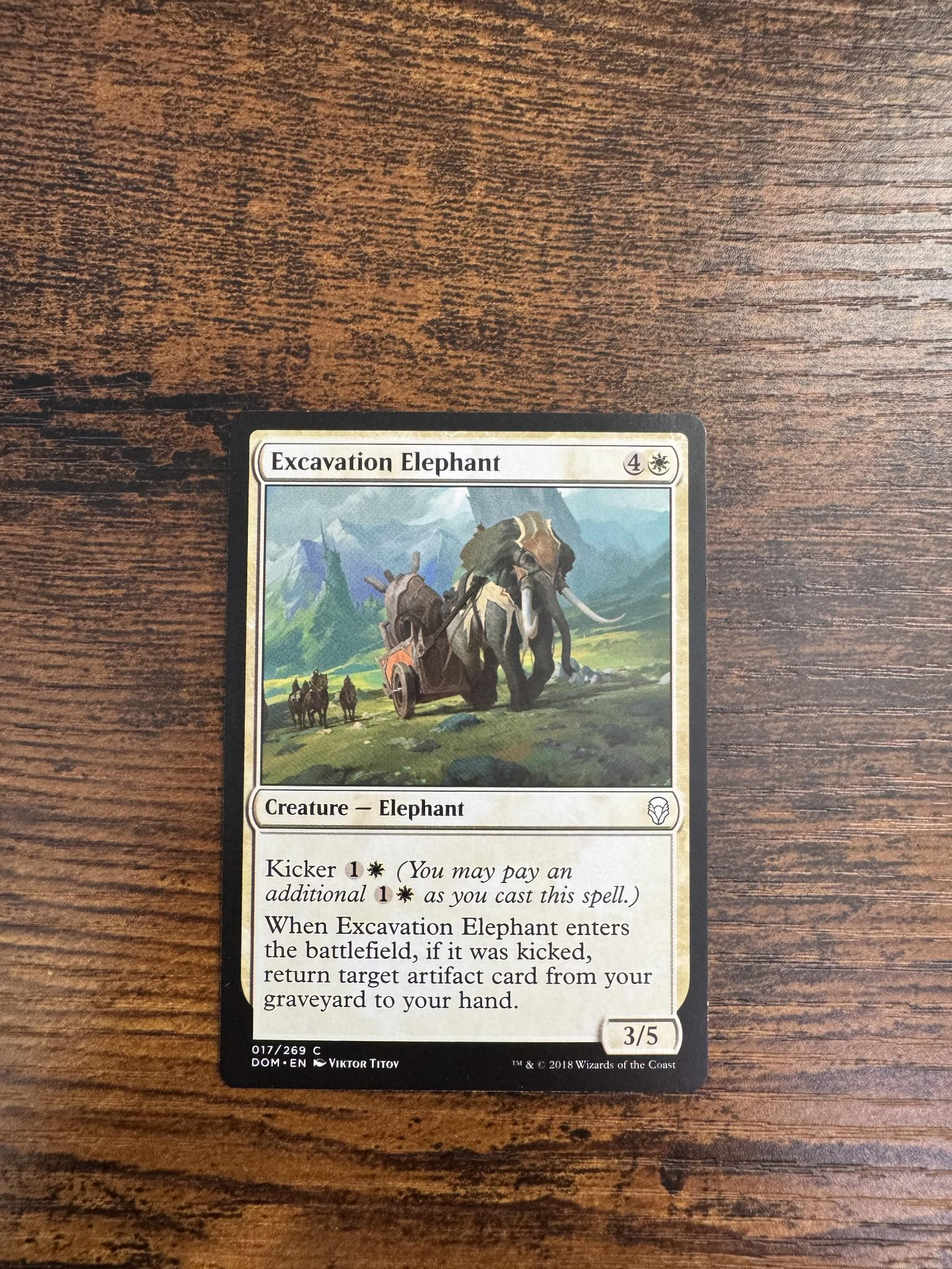card-2UtV: (219, 410, 708, 1092)
